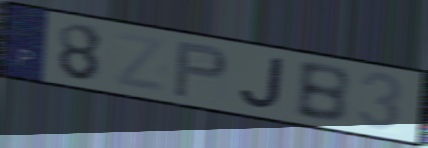3: (356, 71, 410, 135)
8: (56, 22, 103, 83)
B: (293, 60, 353, 126)
J: (237, 56, 287, 111)
P: (170, 39, 230, 100)
Z: (112, 29, 169, 96)
